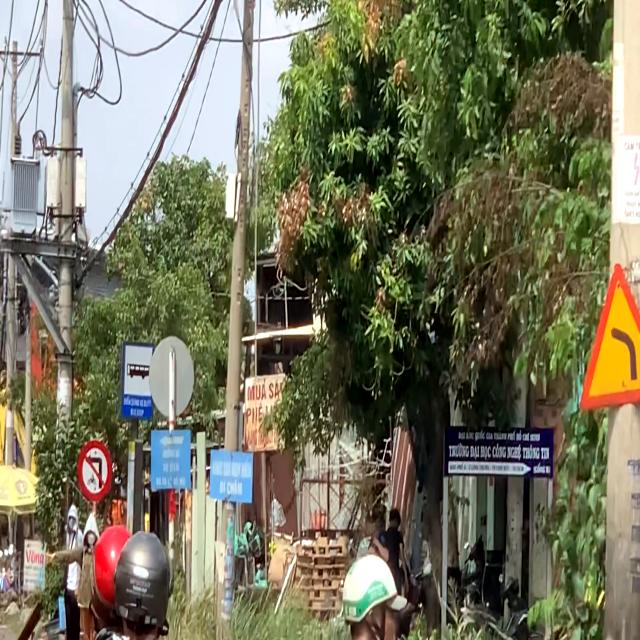R.434: (119, 339, 154, 420)
